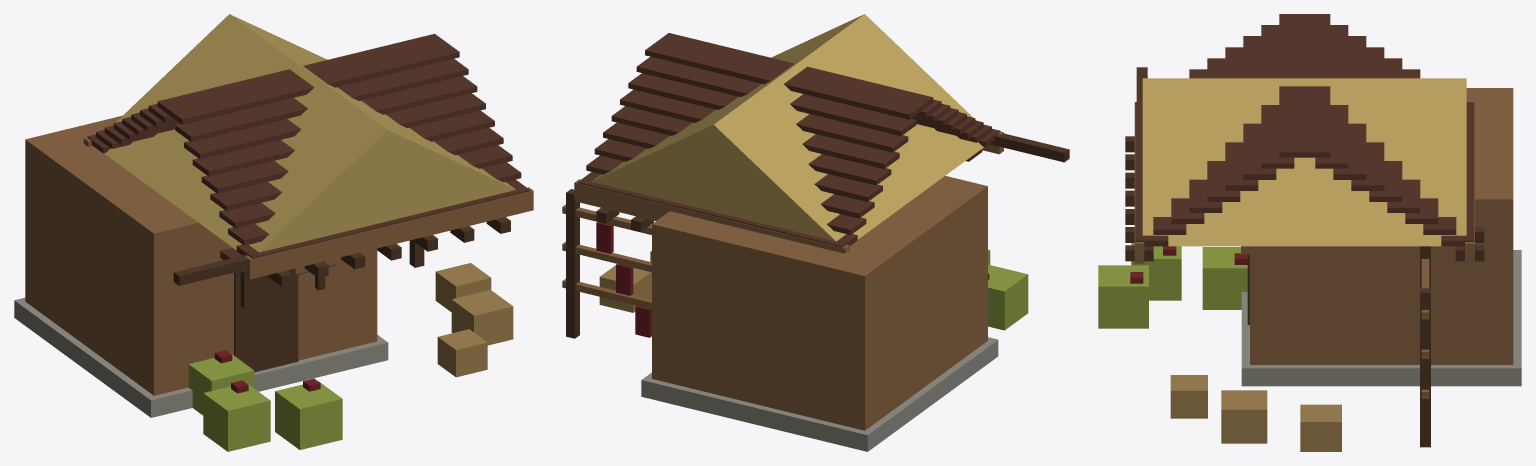
Rendered from gatherer.glb.
3 renders of one model, left to right at view 1: azimuth 30°, elevation 25°; view 2: azimuth 150°, elevation 25°; view 3: azimuth 270°, elevation 25°, orthographic. The views are drawn at different scales.
Parts seen in each view (by area): view 1: gatherer; view 2: gatherer; view 3: gatherer.
Part boxes in pixels (bbox=[...]): gatherer: bbox=[14, 14, 533, 451]; gatherer: bbox=[562, 14, 1069, 451]; gatherer: bbox=[1098, 14, 1521, 451].
Bounding box in the file's own units: 4.22 × 2.85 × 3.85.
